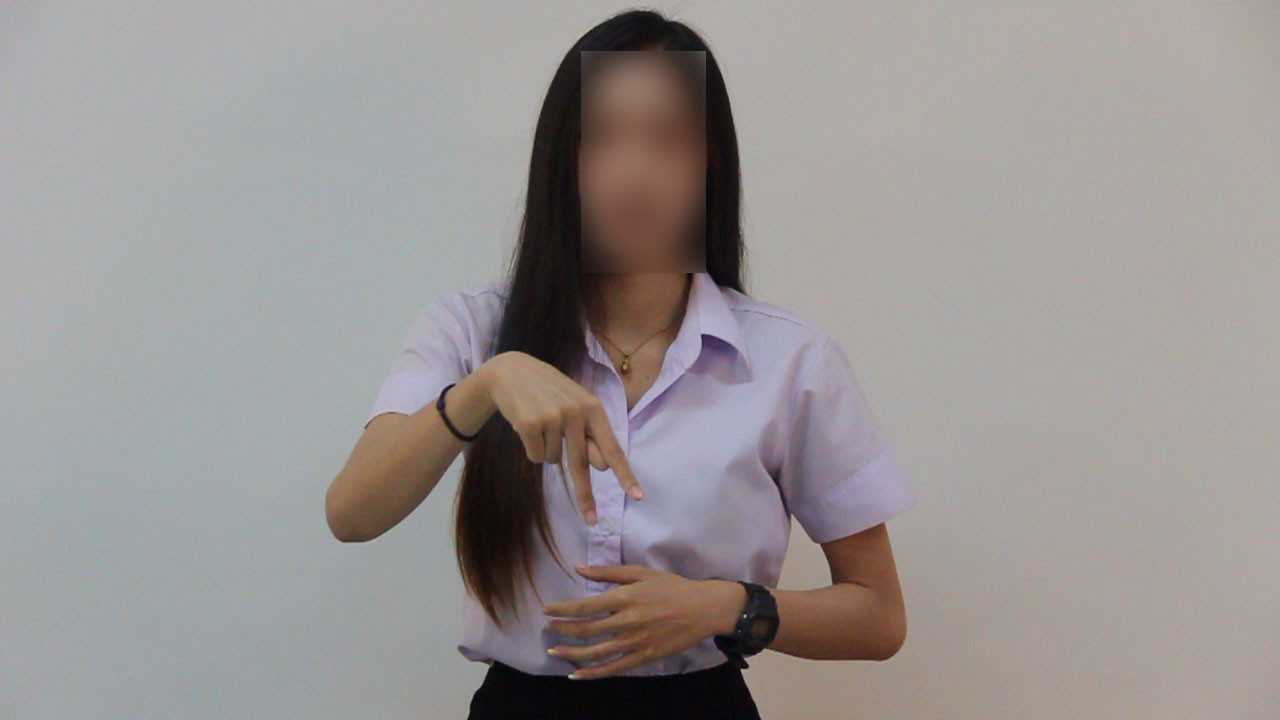por: (472, 328, 656, 533)
